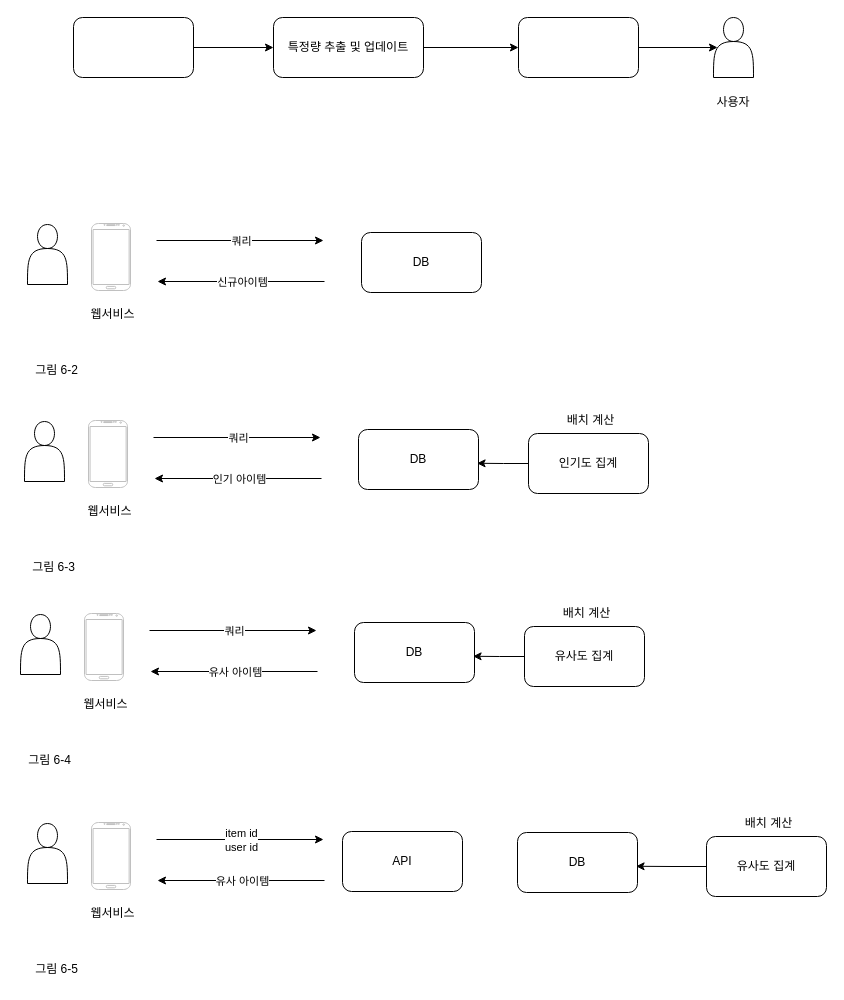
Some shapes in this 844 by 1000 pixel diagram are drawn without their labels. The shapes that lost their labels are listed below. From the top down, each one's centre as x and y in pixels, then its label:
pixel 133 47: 모델학습
pixel 578 47: 예측
